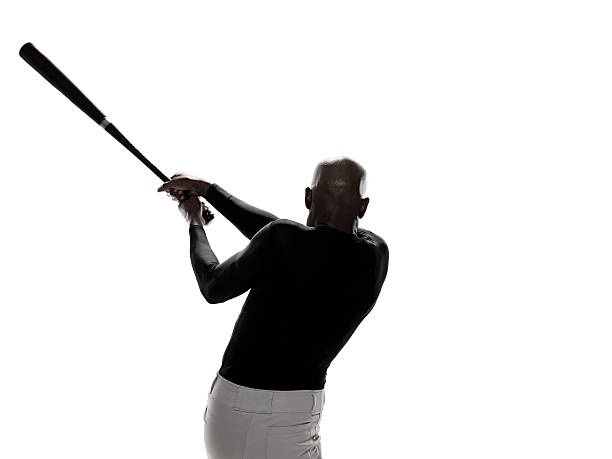bita: (15, 40, 217, 221)
